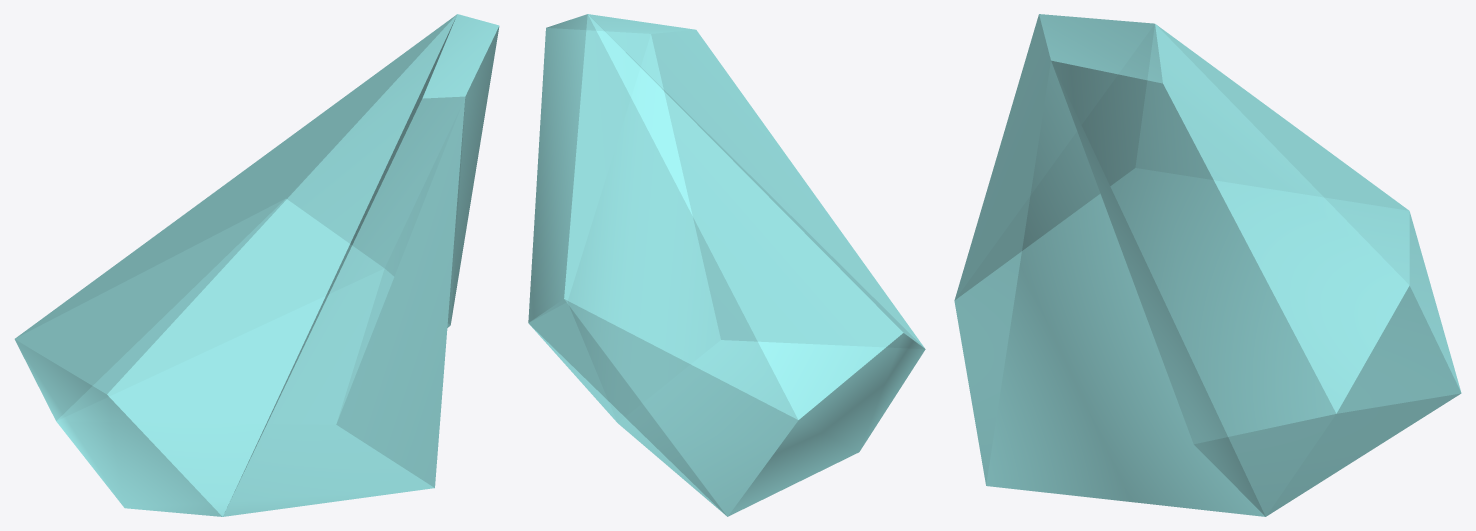
The model's file is Rock_Medium_Tall_Ice_01.fbx.
3 views of the same model, side by side, from view 1: azimuth 30°, elevation 25°; view 2: azimuth 150°, elevation 25°; view 3: azimuth 270°, elevation 25° (orthographic). The views are drawn at different scales.
Visible parts, largest first — view 1: Model; view 2: Model; view 3: Model.
Part boxes in pixels (x1,y1,x2,y2): Model: (14,14,499,516); Model: (528,14,925,516); Model: (954,14,1461,516).
Size of the model in its own units: 486 by 490 by 413.
